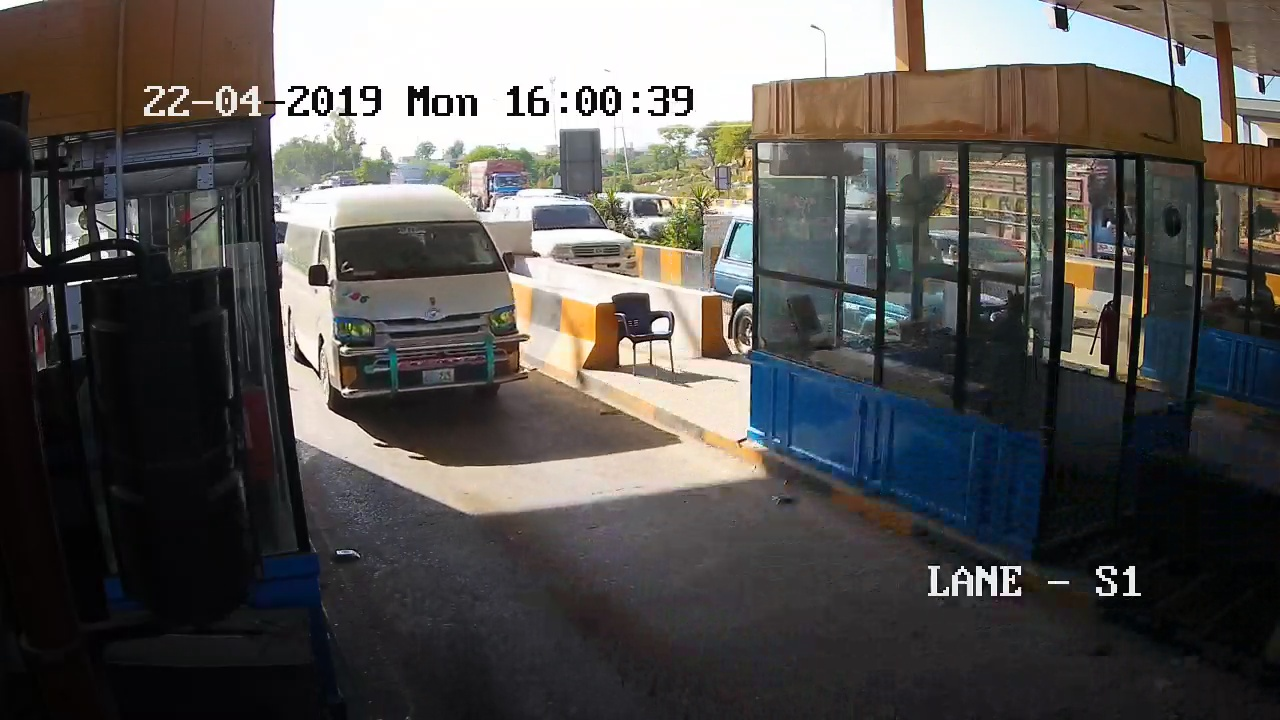car: (279, 183, 551, 431)
